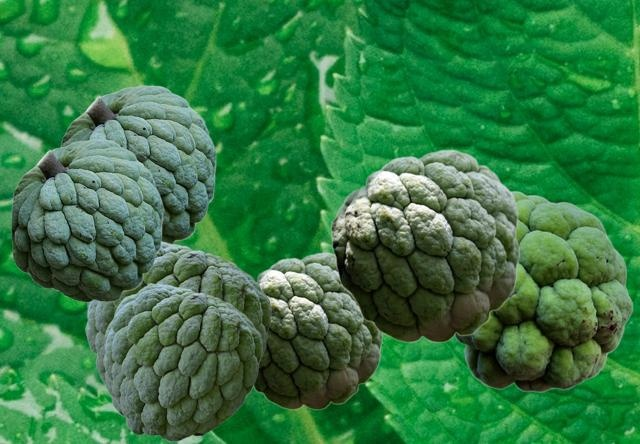atis: (330, 149, 519, 342), (454, 190, 632, 392), (85, 241, 270, 416), (103, 283, 261, 440), (11, 139, 162, 301), (60, 85, 215, 242), (253, 252, 382, 409)
